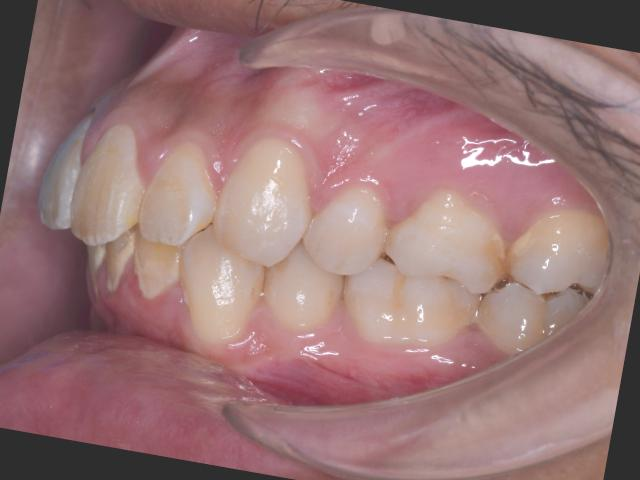canine class I: (166, 120, 362, 375)
molar class I: (332, 164, 522, 371)
